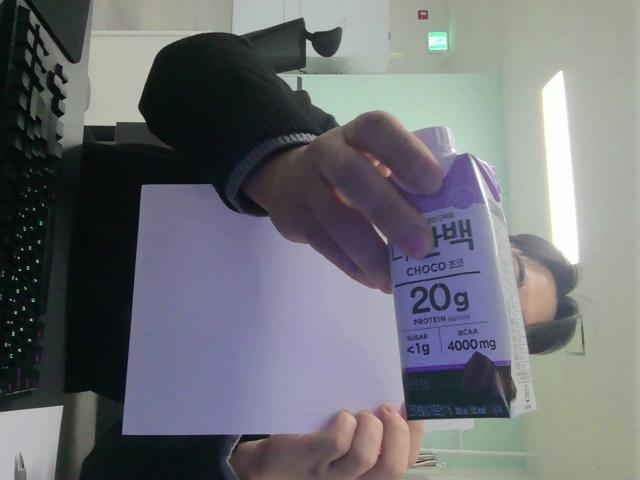milk: (389, 127, 534, 418)
